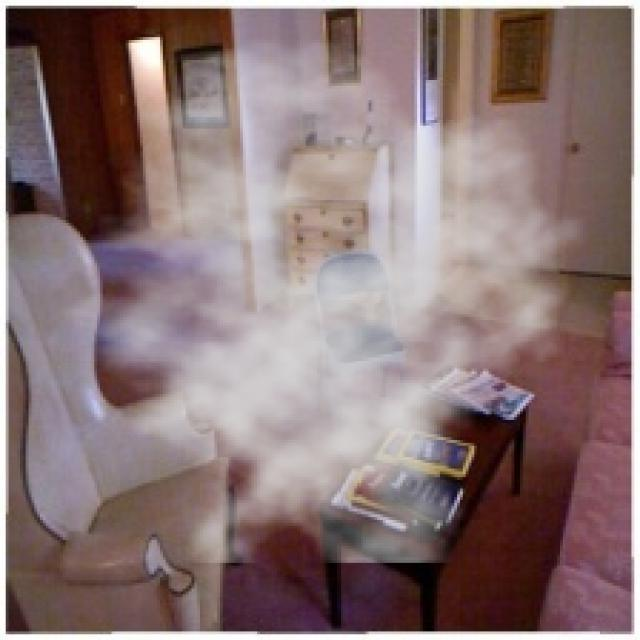Smoke: (37, 37, 589, 563)
